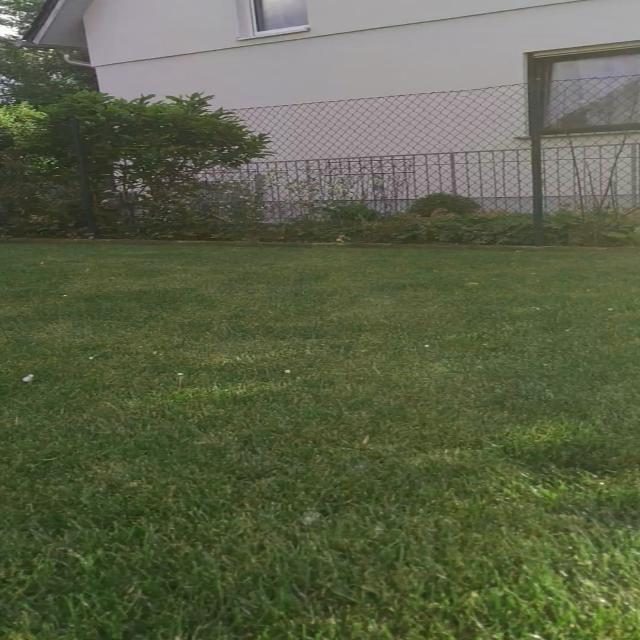lawn: (0, 241, 640, 640)
